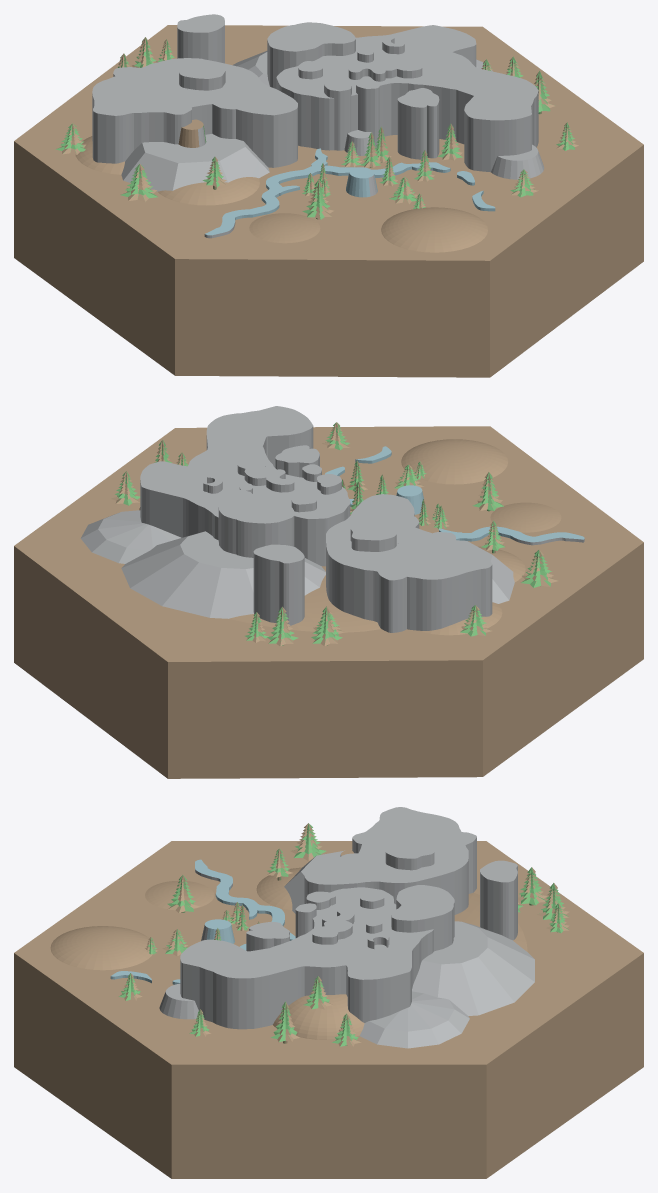
Rendered from mounts.glb.
The picture shows the model from 3 angles, top to bottom: view 1: azimuth 30°, elevation 25°; view 2: azimuth 150°, elevation 25°; view 3: azimuth 270°, elevation 25°; orthographic projection. The views are drawn at different scales.
Visible parts, largest first — view 1: Mesh_Mesh_head_geo.001_lambert2SG.001; view 2: Mesh_Mesh_head_geo.001_lambert2SG.001; view 3: Mesh_Mesh_head_geo.001_lambert2SG.001.
Boxes of the visible parts, left/top/right/bottom form: Mesh_Mesh_head_geo.001_lambert2SG.001: left=14, top=14, right=643, bottom=377; Mesh_Mesh_head_geo.001_lambert2SG.001: left=14, top=406, right=643, bottom=778; Mesh_Mesh_head_geo.001_lambert2SG.001: left=14, top=807, right=643, bottom=1178.
Bounding box in the file's own units: 84 × 31 × 100.
